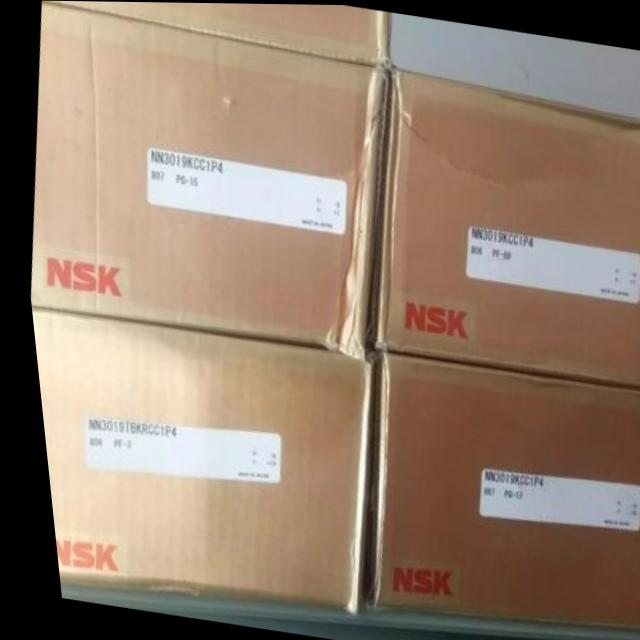box: (24, 1, 390, 350), (25, 309, 367, 615), (362, 67, 640, 389), (355, 351, 640, 630), (42, 0, 391, 69)
